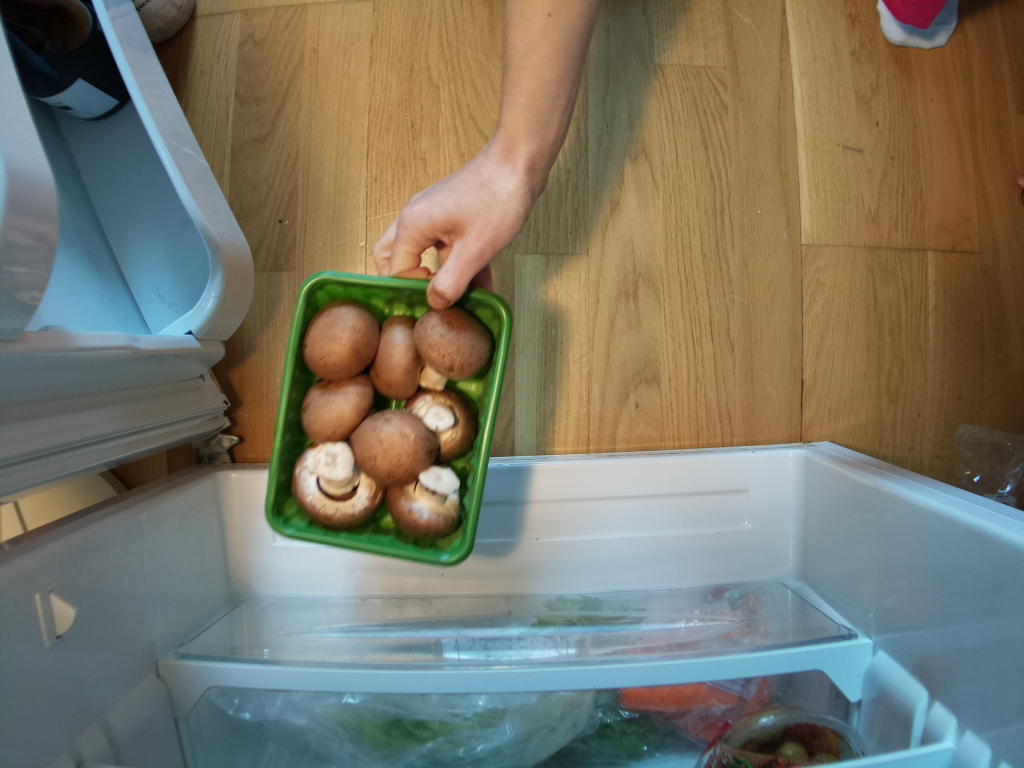mushrooms: (259, 263, 520, 579)
